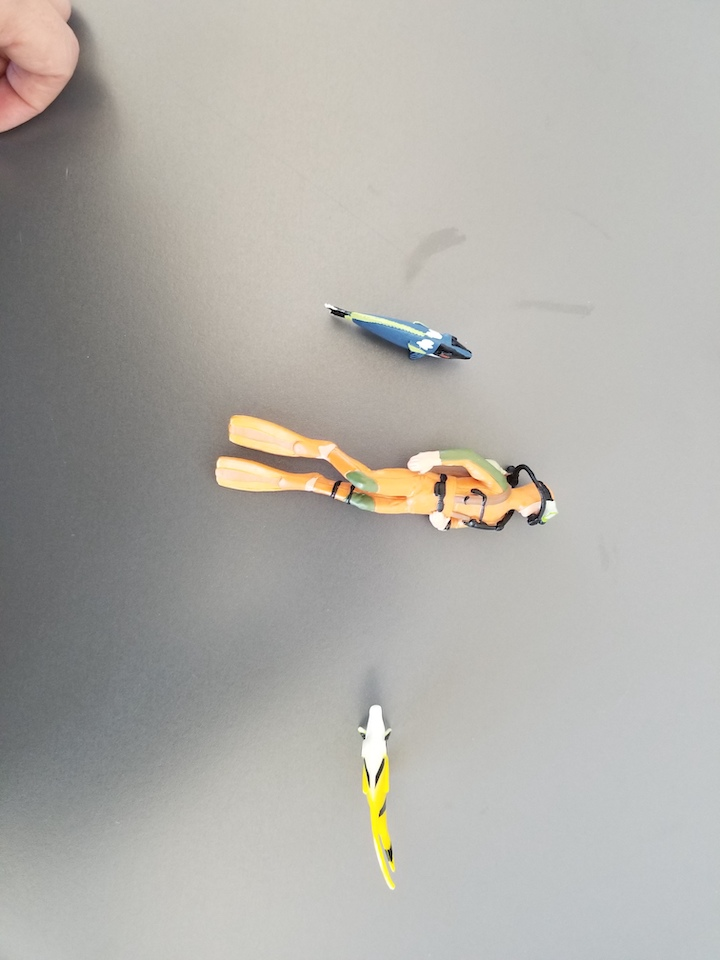danger: (355, 704, 400, 890)
diver: (215, 413, 566, 536)
fish: (322, 301, 473, 364)
